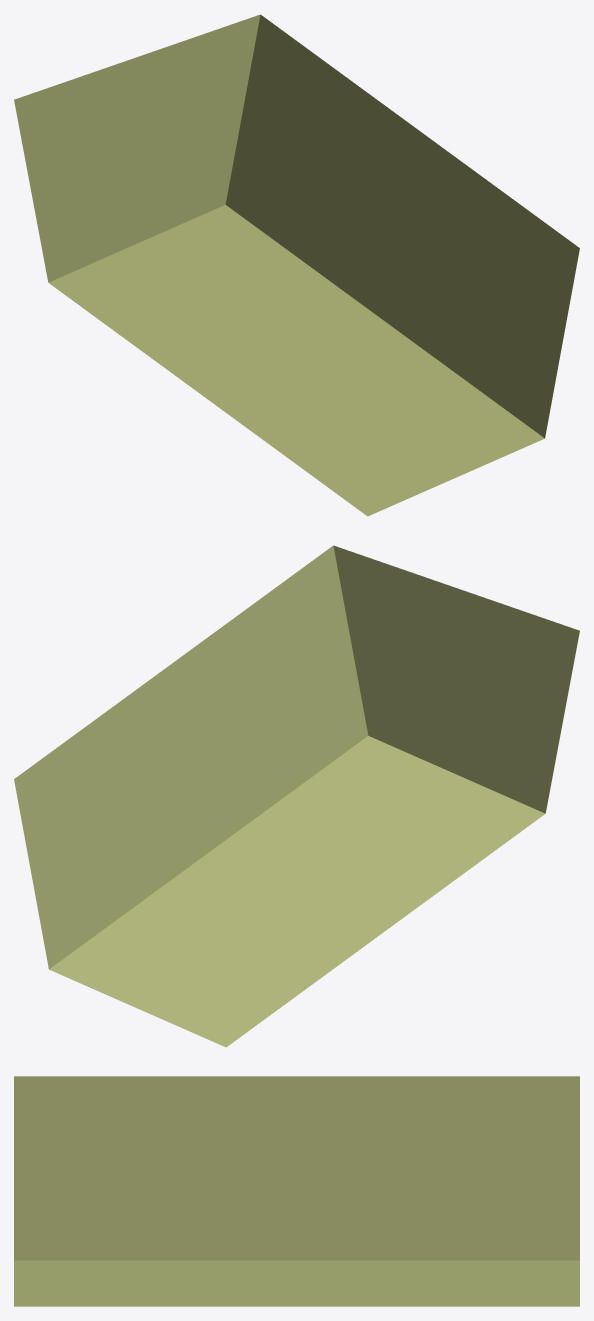
The picture shows the model from 3 angles, top to bottom: view 1: azimuth 30°, elevation 25°; view 2: azimuth 150°, elevation 25°; view 3: azimuth 270°, elevation 25°; orthographic projection. The views are drawn at different scales.
Visible parts, largest first — view 1: 0_1_3_2_1_2_3_2_1_2_3_0_2; view 2: 0_1_3_2_1_2_3_2_1_2_3_0_2; view 3: 0_1_3_2_1_2_3_2_1_2_3_0_2.
Boxes of the visible parts, x1,y1,x2,y2 form: 0_1_3_2_1_2_3_2_1_2_3_0_2: (14, 14, 579, 516); 0_1_3_2_1_2_3_2_1_2_3_0_2: (14, 545, 579, 1047); 0_1_3_2_1_2_3_2_1_2_3_0_2: (14, 1076, 579, 1306).
Bounding box in the file's own units: 2.67 × 2.24 × 6.
